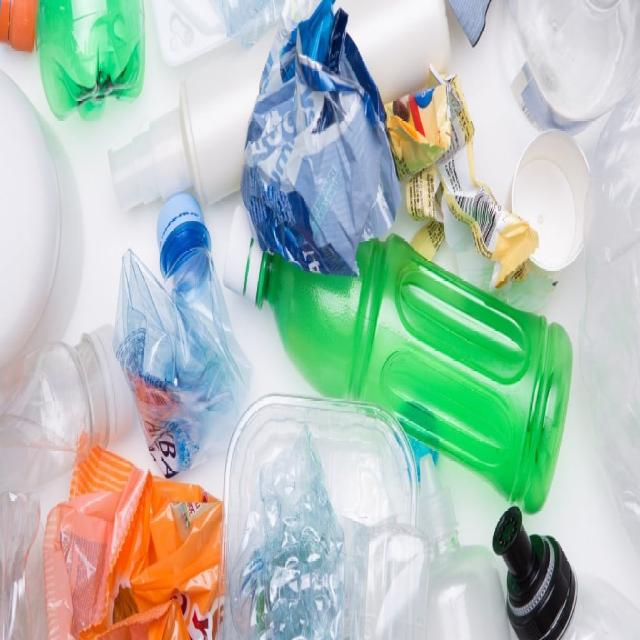plastic: (237, 386, 420, 640), (250, 13, 398, 259), (111, 189, 246, 454)
